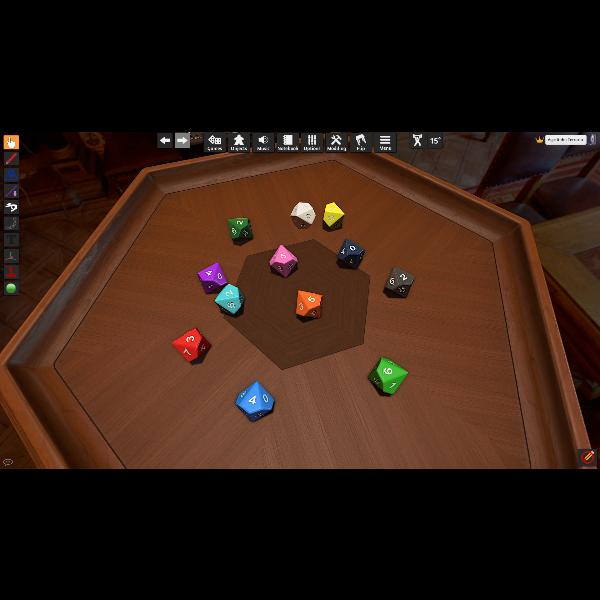d10: (234, 379, 274, 420), (369, 355, 405, 392), (173, 327, 210, 361), (214, 284, 244, 314), (198, 262, 226, 294), (270, 244, 298, 276), (385, 266, 413, 296), (337, 238, 364, 268), (295, 290, 321, 318), (291, 200, 315, 228), (324, 201, 344, 229), (228, 217, 252, 239)
